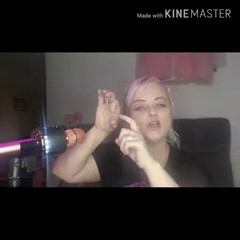Q: (93, 84, 153, 170)
